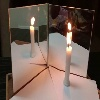fire: (66, 32, 71, 49)
